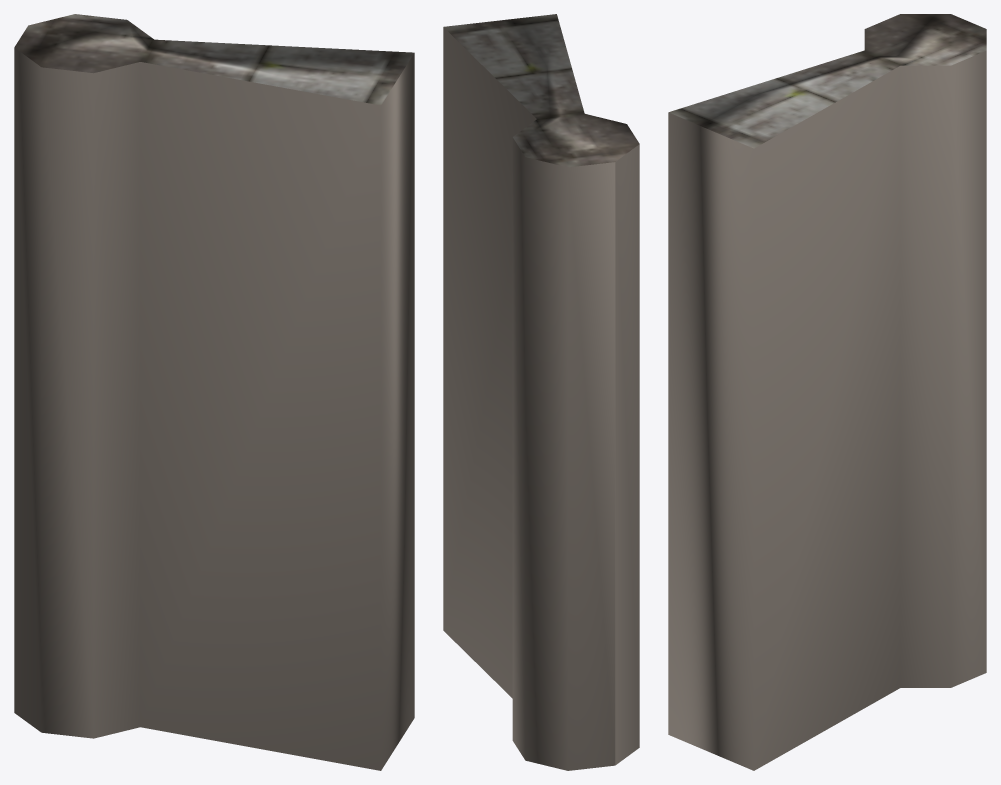
Rendered from stair_pillar_2.glb.
3 views of the same model, side by side, from view 1: azimuth 30°, elevation 25°; view 2: azimuth 150°, elevation 25°; view 3: azimuth 270°, elevation 25° (orthographic). The views are drawn at different scales.
Parts seen in each view (by area): view 1: stair_pillar_2; view 2: stair_pillar_2; view 3: stair_pillar_2.
Boxes of the visible parts, box(x1,y1,x2,y2) form: stair_pillar_2: box(14, 14, 414, 770); stair_pillar_2: box(443, 14, 639, 770); stair_pillar_2: box(668, 14, 986, 770).
Size of the model in its own units: 3.71 by 8 by 3.71.
Materials: 2 (2 with a texture image).
